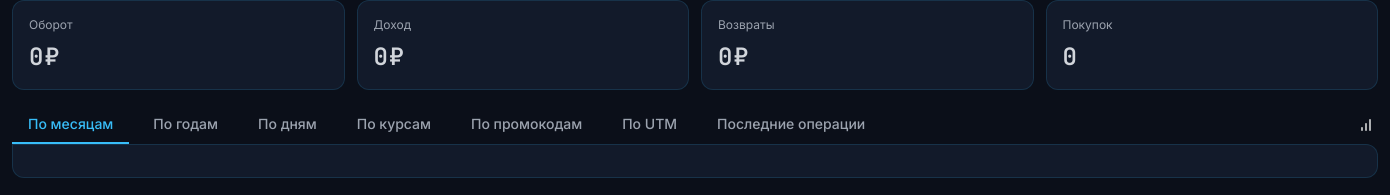
Test: Financials › keeps chart mode when switching between months/days and hides it on years and other tabs
Click the button named "Показать график".
click(1366, 125)  # box x1=1354 y1=113 x2=1378 y2=137
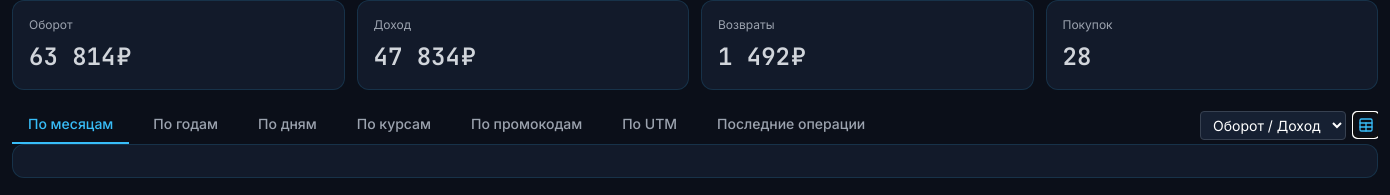
Click the button "По дням".
click(287, 125)  # box x1=242 y1=106 x2=333 y2=144
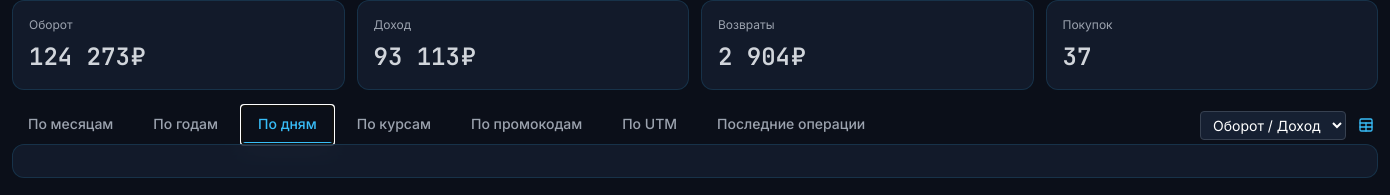
Result: the dropdown named "Метрика графика" is shown at x1=1200 y1=110 x2=1346 y2=140
Result: the picture named "Диаграмма Оборот / Доход" is shown at x1=12 y1=144 x2=1378 y2=178
Click the button "По годам".
click(186, 125)  # box x1=137 y1=106 x2=234 y2=144
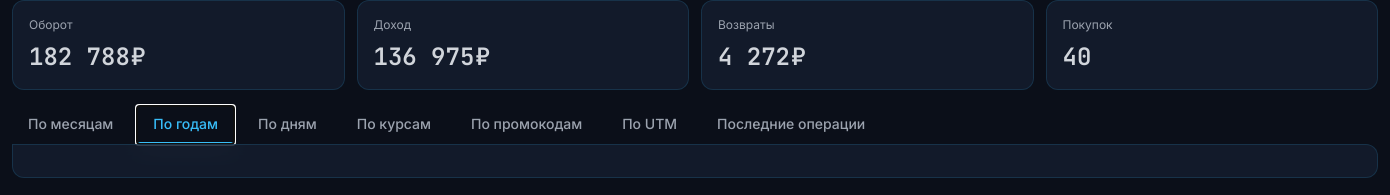
Click the button "По месяцам".
click(71, 125)  # box x1=12 y1=106 x2=129 y2=144
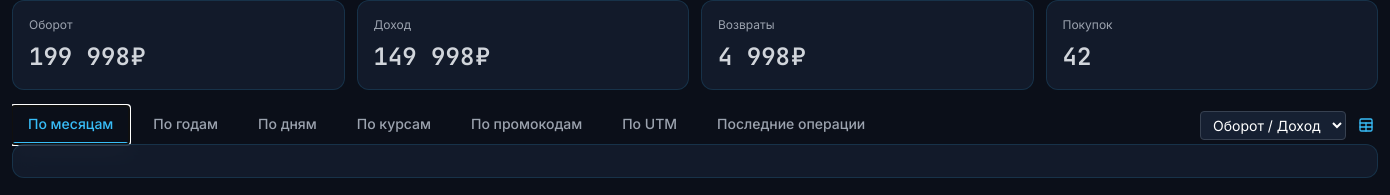
Result: the dropdown named "Метрика графика" is shown at x1=1200 y1=110 x2=1346 y2=140
